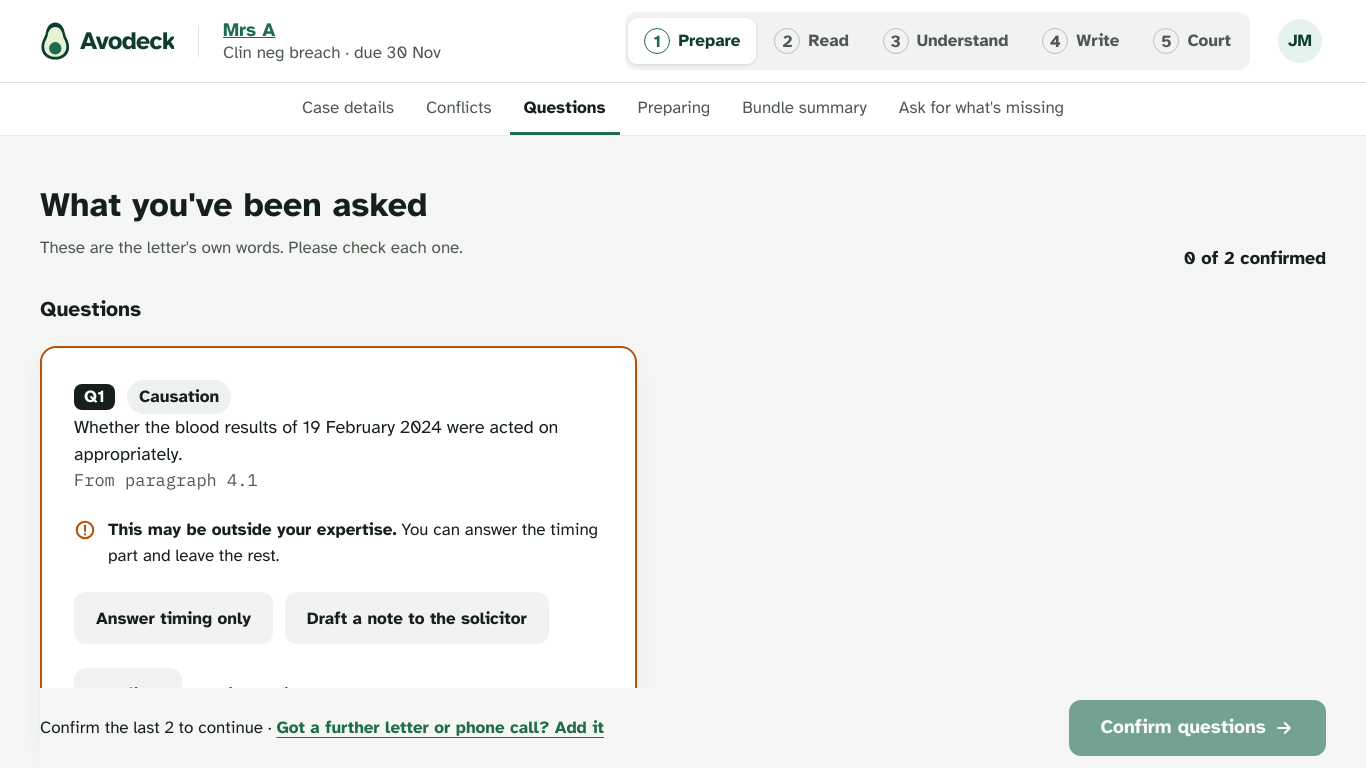
Test: a question outside your expertise explains it and offers to answer only the parts left to you
This screenshot has width=1366, height=768.
Expected: the text "This may be outside your expertise." is shown, [108,519,396,540]
Click the button "Answer timing only": (174, 618) [74,592,273,644]
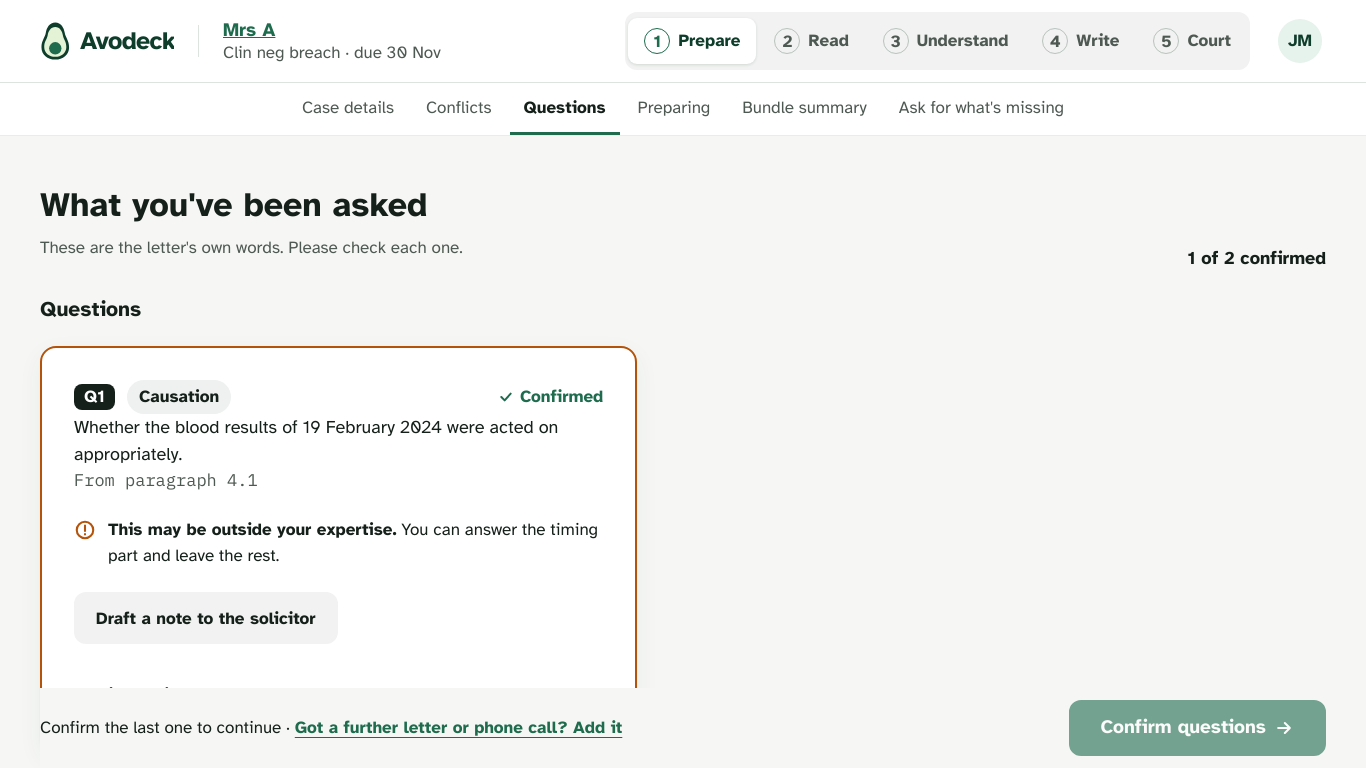
Expected: the text "Confirmed" is shown, [498,384,603,410]
